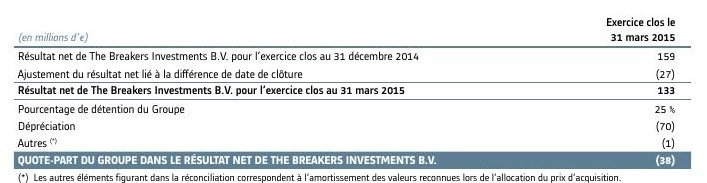table: (0, 0, 707, 183)
